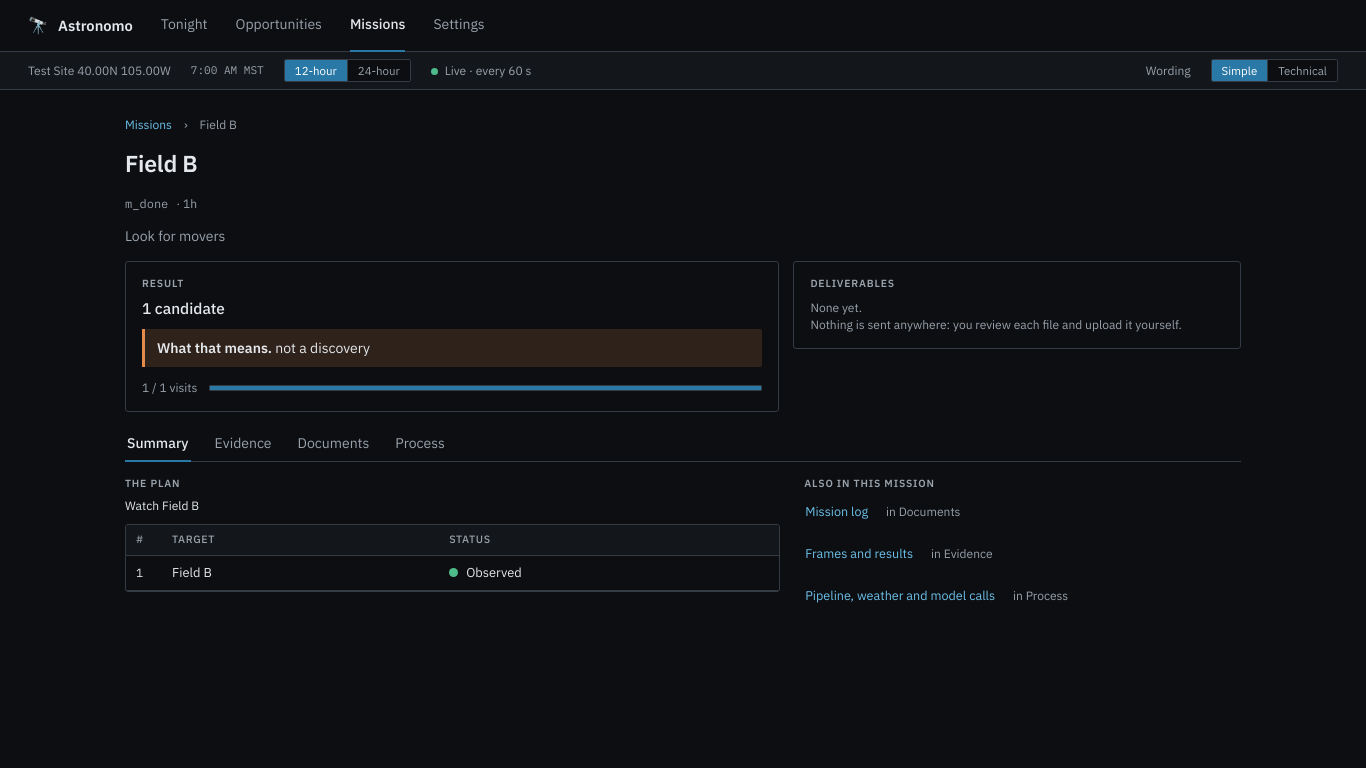
Process shows language-model traffic
Expected: the heading "Field B" is shown, [125,148,197,178]
Click the button "Process" at coordinates (420, 444), box [393,426,447,462]
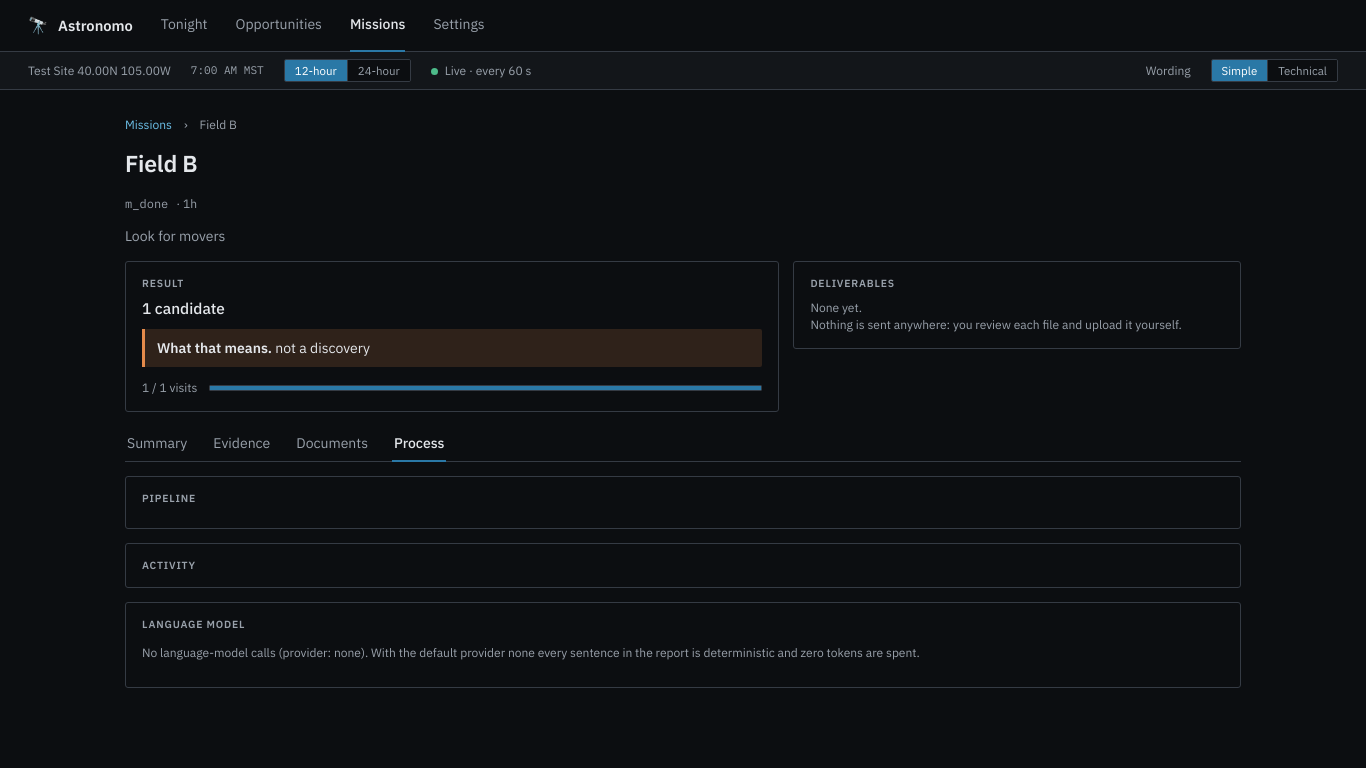
Expected: the text "Language model" is shown, [142,617,245,631]
Expected: the text "No language-model calls" is shown, [142,645,334,660]
